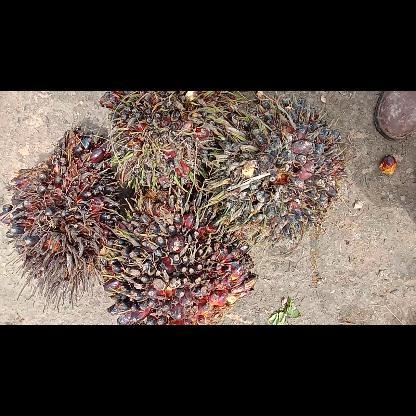TBS abnormal: (0, 125, 129, 304), (206, 99, 348, 241), (112, 196, 256, 324), (96, 91, 232, 190)
